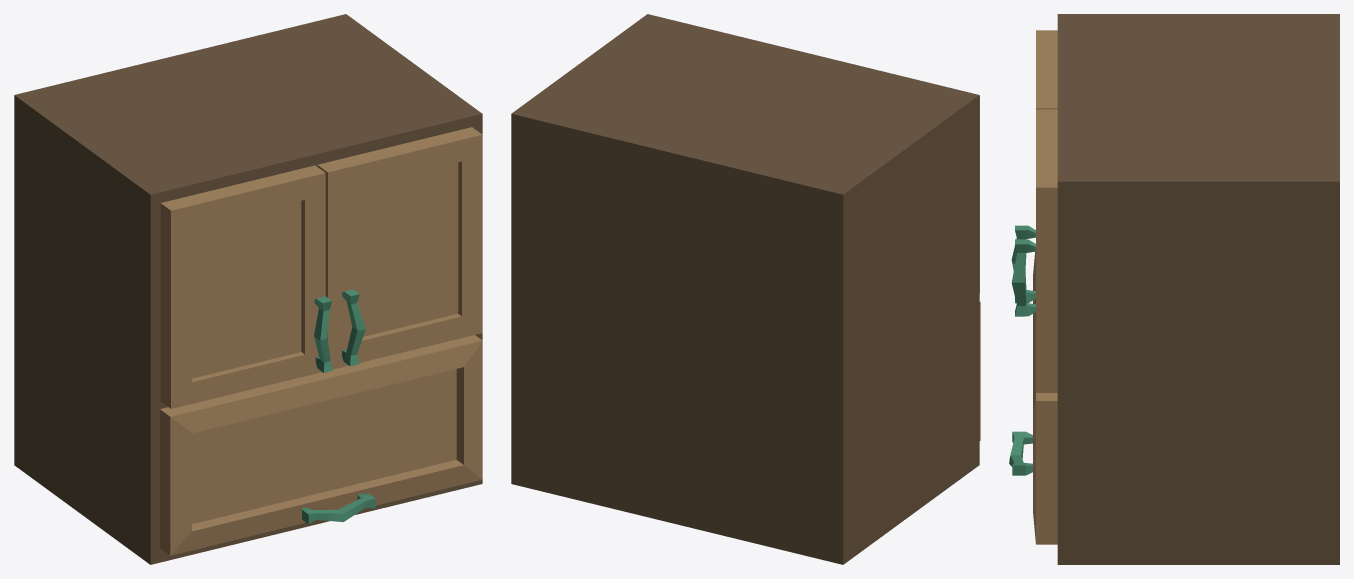
File: cupboard_2_high.fbx
3 views of the same model, side by side, from view 1: azimuth 30°, elevation 25°; view 2: azimuth 150°, elevation 25°; view 3: azimuth 270°, elevation 25° (orthographic). The views are drawn at different scales.
Parts seen in each view (by area): view 1: cupboard_door2_high, cupboard_base_high, handle_door_2_high; view 2: cupboard_base_high; view 3: cupboard_base_high, cupboard_door2_high, handle_door_2_high.
Part boxes in pixels (bbox=[...]): cupboard_door2_high: bbox=[160, 127, 482, 555]; cupboard_base_high: bbox=[14, 14, 482, 564]; handle_door_2_high: bbox=[302, 289, 375, 524]; cupboard_base_high: bbox=[511, 14, 979, 564]; cupboard_base_high: bbox=[1057, 14, 1339, 564]; cupboard_door2_high: bbox=[1033, 30, 1057, 544]; handle_door_2_high: bbox=[1009, 225, 1035, 475].
Bounding box in the file's own units: 5.9 × 6.29 × 4.92.
